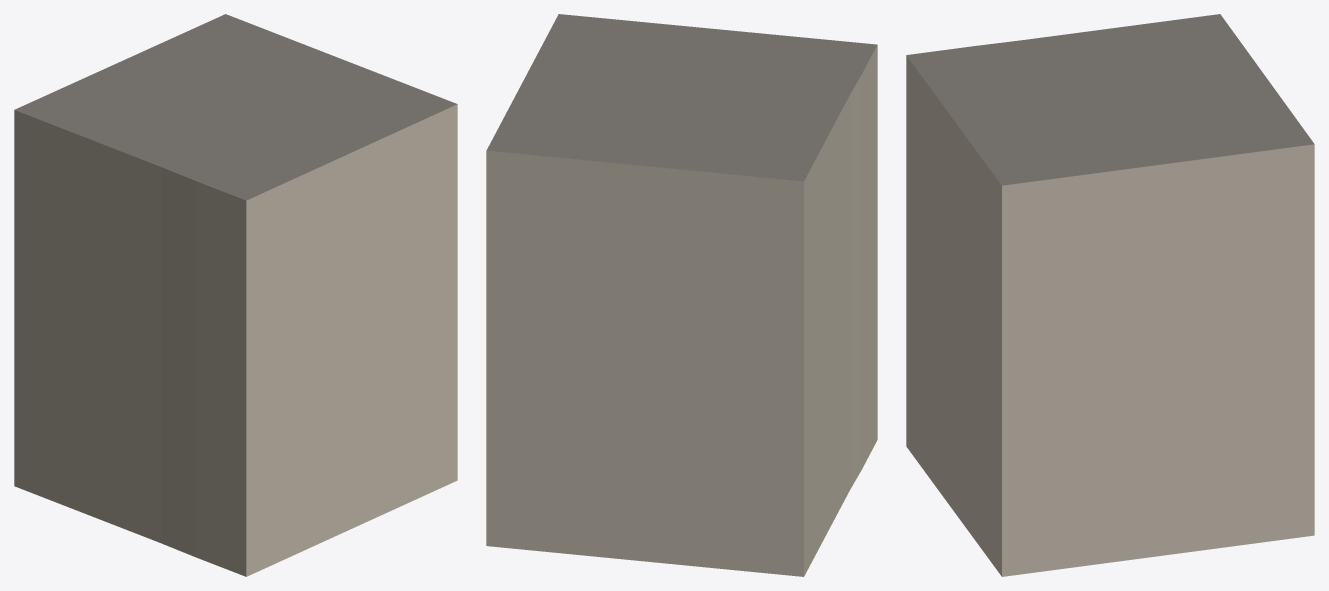
3 renders of one model, left to right at view 1: azimuth 30°, elevation 25°; view 2: azimuth 150°, elevation 25°; view 3: azimuth 270°, elevation 25°, orthographic. The views are drawn at different scales.
Parts seen in each view (by area): view 1: HP-w1198568466; view 2: HP-w1198568466; view 3: HP-w1198568466.
Boxes of the visible parts, x1,y1,x2,y2 form: HP-w1198568466: [14, 14, 457, 576]; HP-w1198568466: [486, 14, 877, 576]; HP-w1198568466: [906, 14, 1314, 576].
Bounding box in the file's own units: 16.94 × 18 × 17.03.
